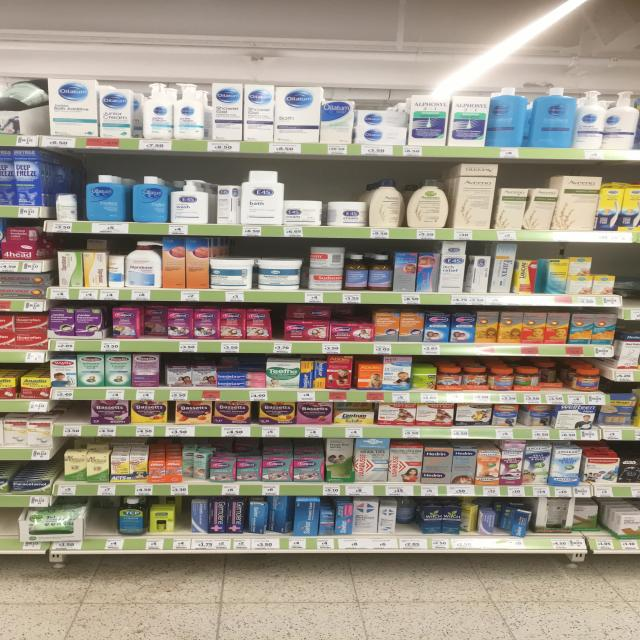unorganised: (489, 82, 524, 146), (370, 179, 406, 228), (267, 495, 292, 535), (571, 503, 604, 533), (286, 302, 332, 322), (356, 110, 408, 127), (503, 503, 529, 537), (182, 451, 209, 481), (141, 304, 167, 335), (539, 361, 566, 389), (524, 404, 553, 429), (459, 503, 477, 537), (397, 499, 416, 526)
